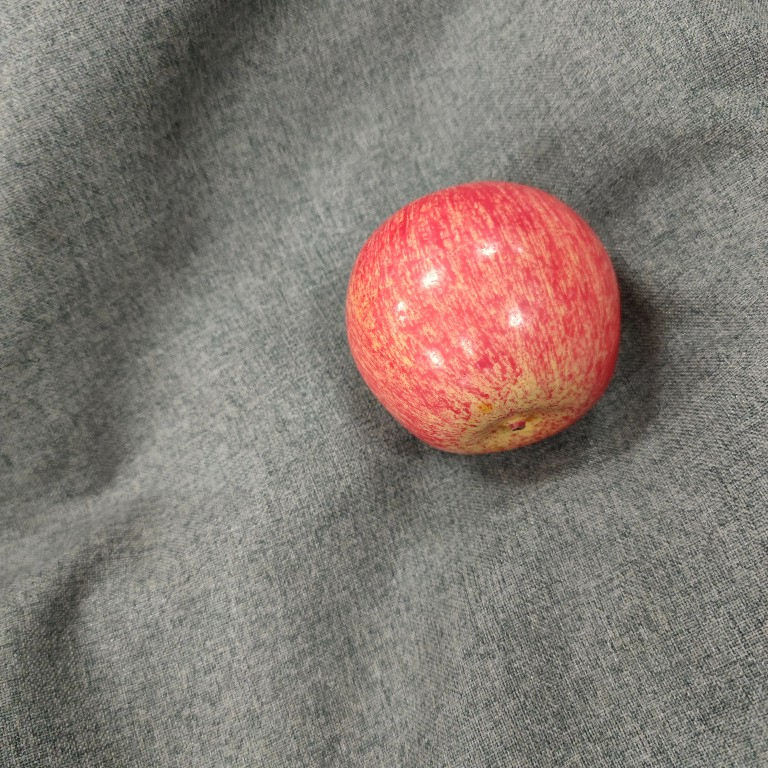fruit_apple: (336, 175, 632, 462)
